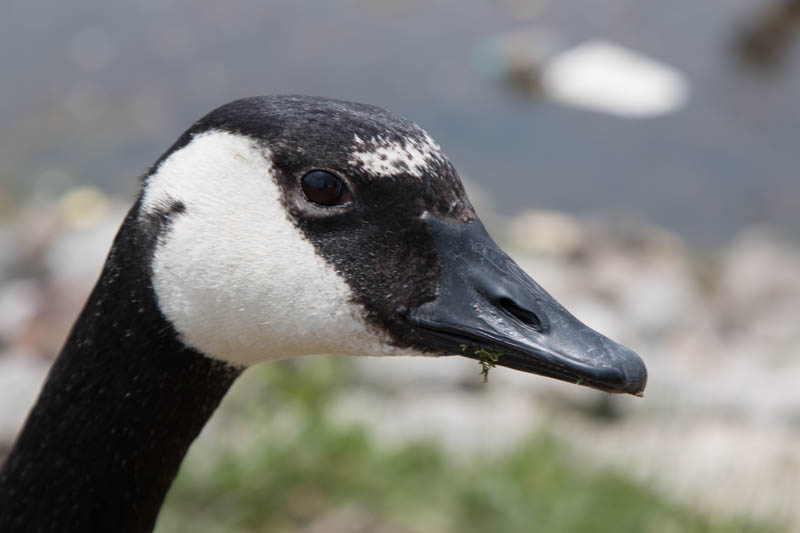goose-head: (101, 93, 648, 395)
